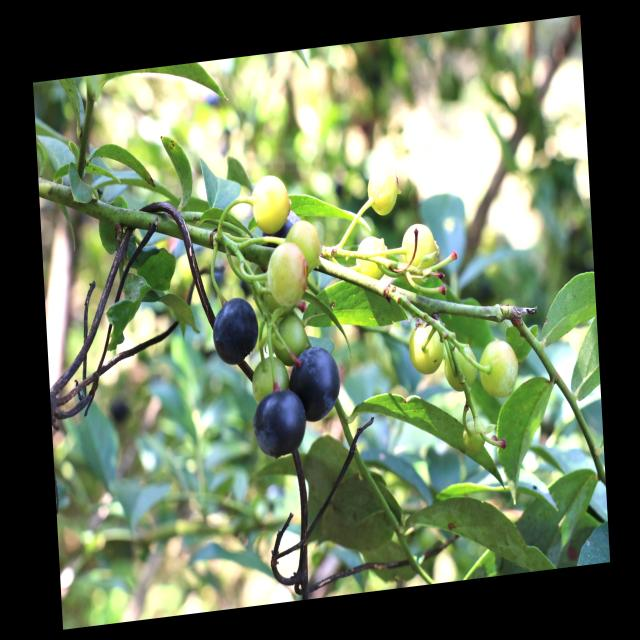blueberry: (288, 341, 344, 425), (252, 388, 310, 462), (209, 294, 260, 371)
blueberry-unripe: (265, 240, 310, 312), (476, 341, 520, 401), (251, 174, 293, 235), (408, 316, 447, 378), (401, 219, 441, 278), (287, 216, 323, 274), (364, 165, 402, 219), (274, 310, 312, 362), (443, 342, 479, 394), (359, 234, 390, 282), (252, 356, 289, 396)
